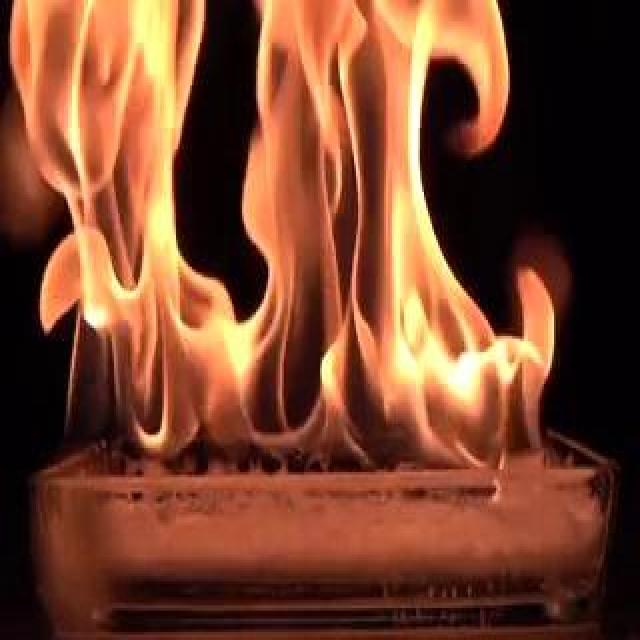Fire: (52, 2, 574, 482)
